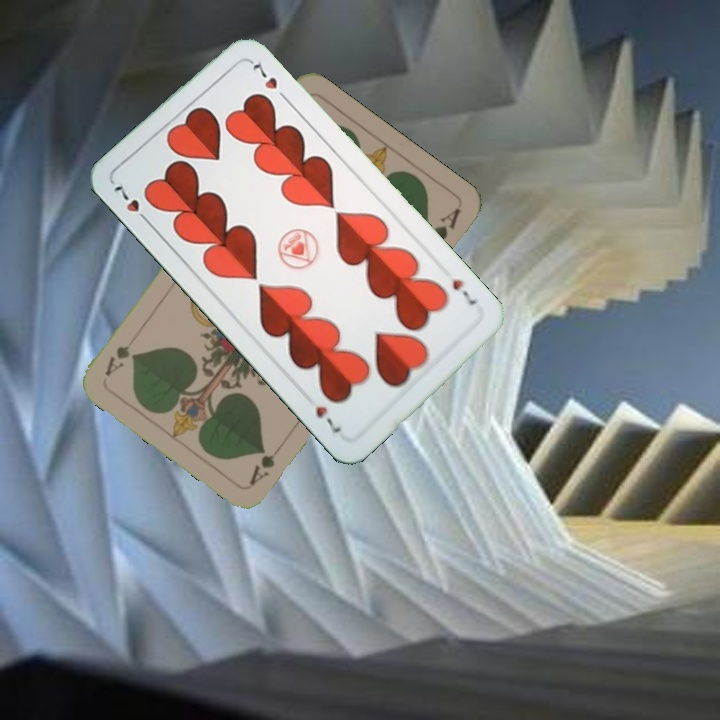GA: (245, 437, 288, 488)
H7: (109, 178, 154, 227), (448, 275, 479, 309)
